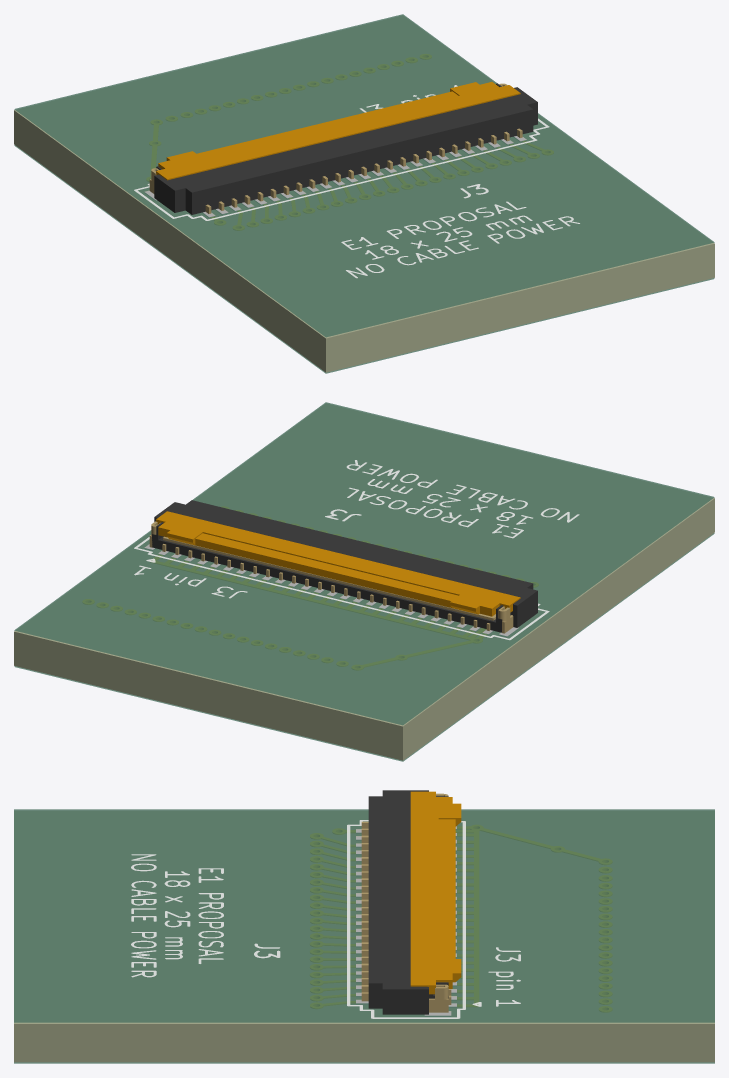
Rendered from routing-cabled-e1.glb.
3 renders of one model, top to bottom at view 1: azimuth 30°, elevation 25°; view 2: azimuth 150°, elevation 25°; view 3: azimuth 270°, elevation 25°, orthographic. The views are drawn at different scales.
Visible parts, largest first — view 1: =>[0:1:1:14], =>[0:1:1:12], body, lock, =>[0:1:1:10], =>[0:1:1:7], pins, =>[0:1:1:13], =>[0:1:1:8]; view 2: =>[0:1:1:14], =>[0:1:1:12], body, lock, =>[0:1:1:10], =>[0:1:1:7], pins, =>[0:1:1:13], =>[0:1:1:8]; view 3: =>[0:1:1:14], =>[0:1:1:12], body, lock, =>[0:1:1:7], =>[0:1:1:10], pins, =>[0:1:1:13], =>[0:1:1:8], =>[0:1:1:9].
Boxes of the visible parts, bbox=[...] form: =>[0:1:1:14]: bbox=[14, 16, 714, 372]; =>[0:1:1:12]: bbox=[14, 14, 714, 337]; body: bbox=[154, 83, 537, 214]; lock: bbox=[156, 82, 520, 180]; =>[0:1:1:10]: bbox=[134, 85, 579, 278]; =>[0:1:1:7]: bbox=[147, 54, 553, 230]; pins: bbox=[149, 83, 522, 213]; =>[0:1:1:13]: bbox=[14, 145, 714, 373]; =>[0:1:1:8]: bbox=[144, 136, 526, 217]; =>[0:1:1:14]: bbox=[14, 404, 714, 760]; =>[0:1:1:12]: bbox=[14, 402, 714, 725]; body: bbox=[152, 500, 537, 632]; lock: bbox=[156, 511, 520, 616]; =>[0:1:1:10]: bbox=[134, 460, 579, 640]; =>[0:1:1:7]: bbox=[83, 507, 538, 669]; pins: bbox=[149, 521, 513, 633]; =>[0:1:1:13]: bbox=[14, 533, 714, 761]; =>[0:1:1:8]: bbox=[145, 544, 518, 636]; =>[0:1:1:14]: bbox=[14, 811, 714, 1062]; =>[0:1:1:12]: bbox=[14, 809, 714, 1022]; body: bbox=[368, 790, 448, 1014]; lock: bbox=[410, 791, 461, 994]; =>[0:1:1:7]: bbox=[310, 825, 611, 1011]; =>[0:1:1:10]: bbox=[131, 820, 520, 1018]; pins: bbox=[361, 793, 451, 1012]; =>[0:1:1:13]: bbox=[14, 1062, 714, 1063]; =>[0:1:1:8]: bbox=[356, 826, 456, 1016]; =>[0:1:1:9]: bbox=[313, 826, 608, 1009].
Bounding box in the file's own units: 0.018 × 0.00272 × 0.025.
